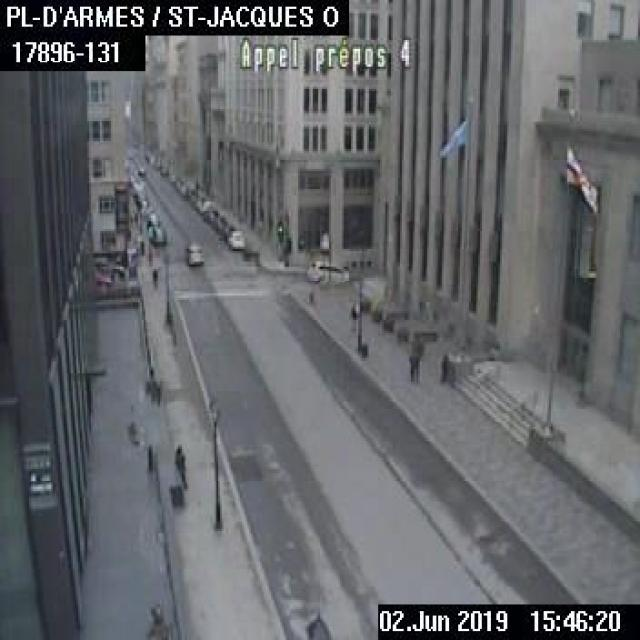pedestrian: (172, 442, 187, 486), (407, 341, 420, 384), (436, 352, 447, 381), (347, 303, 355, 331), (150, 266, 156, 288)
vehicle: (306, 260, 347, 282), (92, 256, 123, 278), (226, 227, 246, 248), (184, 243, 202, 264), (148, 224, 166, 244)
